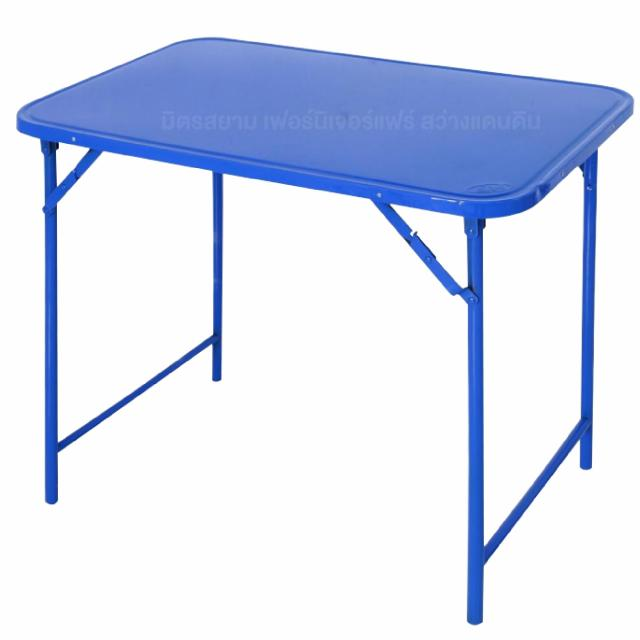table: (13, 28, 638, 634)
